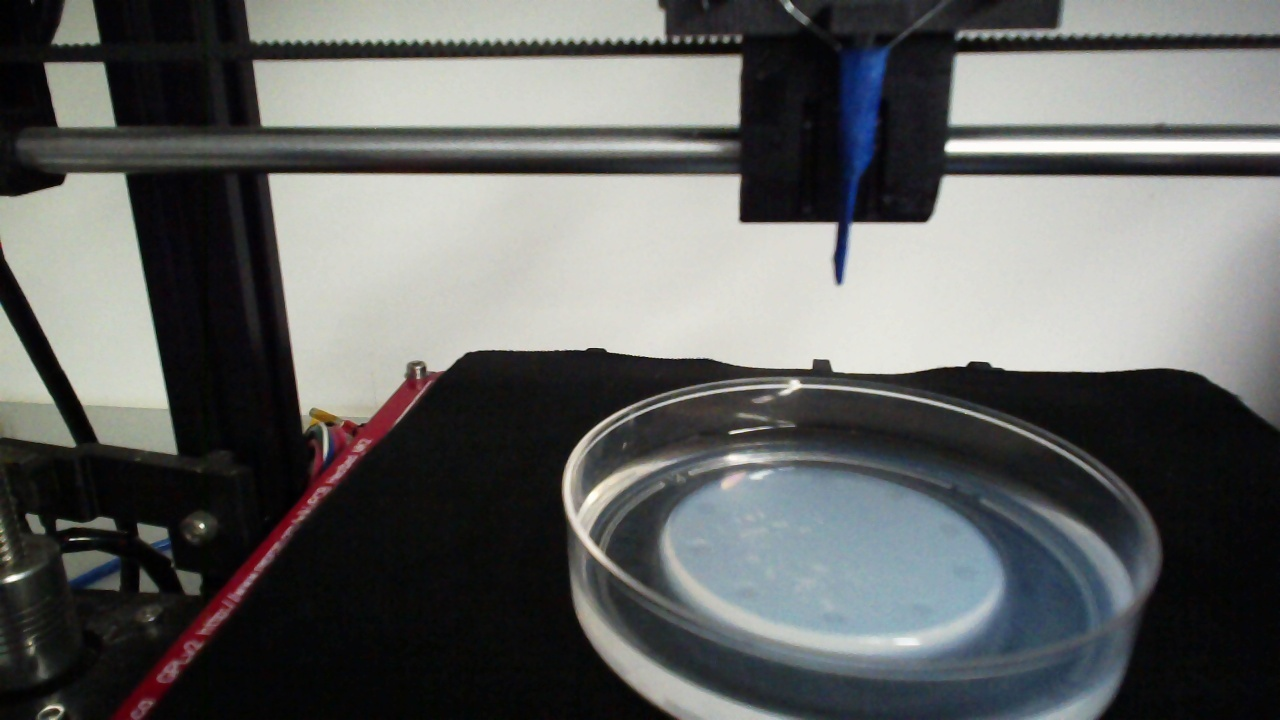groove: (804, 467, 839, 491), (950, 560, 981, 587), (818, 607, 853, 630), (730, 581, 762, 605), (935, 519, 965, 544), (906, 596, 937, 620), (684, 537, 713, 561), (690, 498, 720, 518), (884, 485, 910, 506)
needle: (835, 51, 886, 282)
